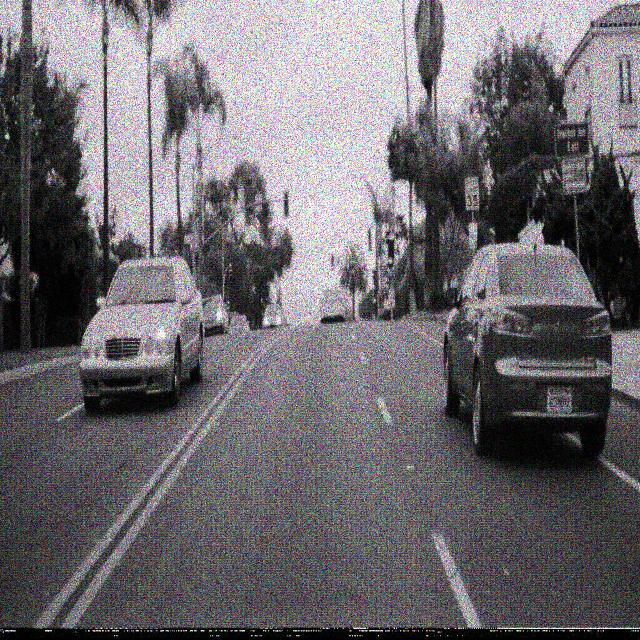speedLimit35: (464, 174, 480, 211)
